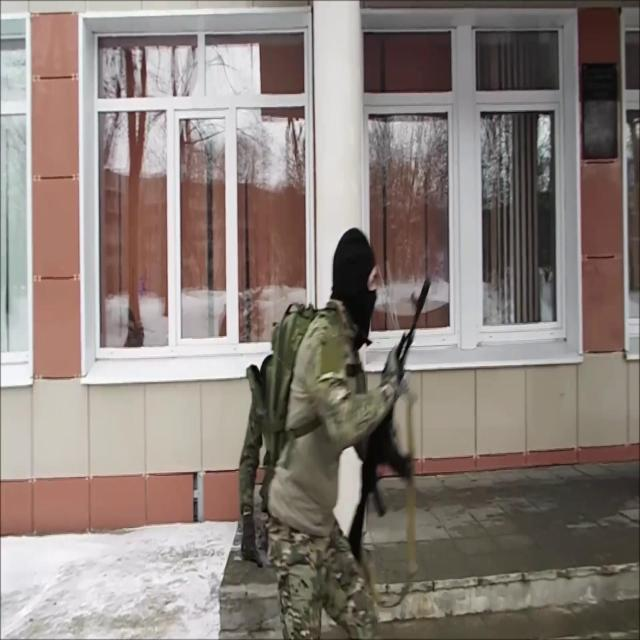pistol: (344, 275, 432, 564)
